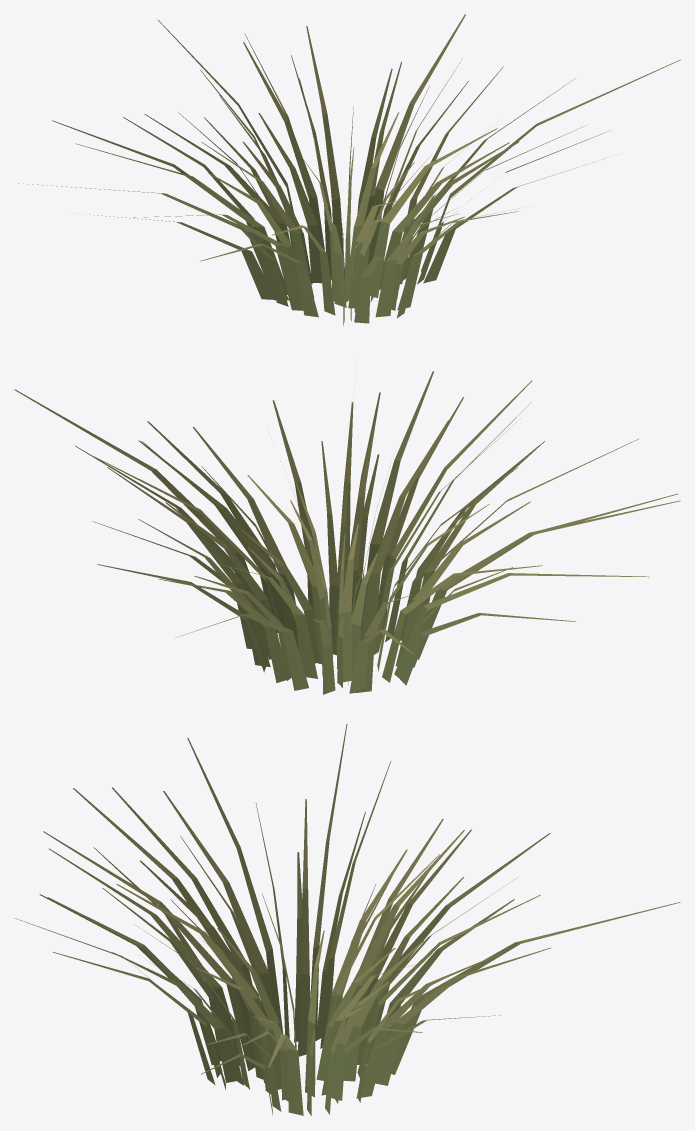
The model's file is pasto_orilla.glb.
The picture shows the model from 3 angles, top to bottom: view 1: azimuth 30°, elevation 25°; view 2: azimuth 150°, elevation 25°; view 3: azimuth 270°, elevation 25°; orthographic projection. The views are drawn at different scales.
Parts seen in each view (by area): view 1: PastoOrilla; view 2: PastoOrilla; view 3: PastoOrilla.
Part boxes in pixels (<box>): PastoOrilla: <box>18,14,680,325</box>; PastoOrilla: <box>14,371,680,694</box>; PastoOrilla: <box>14,724,680,1115</box>.
Bounding box in the file's own units: 1.52 × 0.4886 × 1.26.
